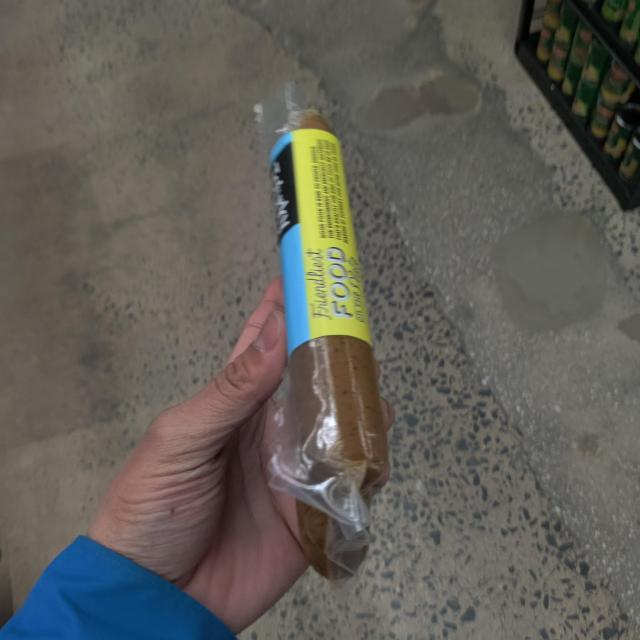Meat: (242, 62, 421, 588)
